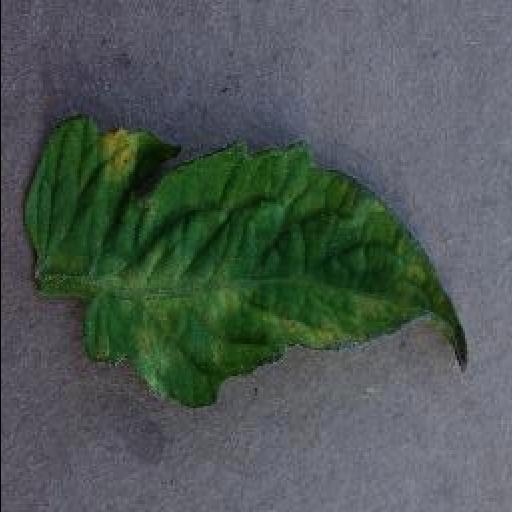disease_tomato: (26, 118, 468, 412)
